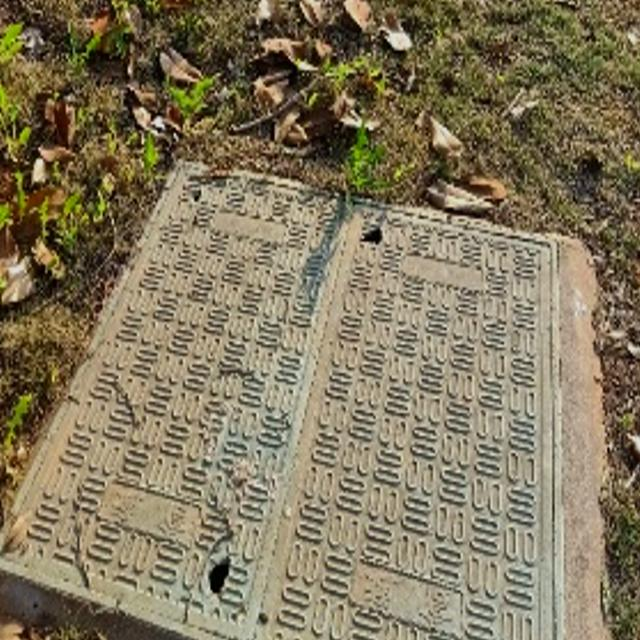good: (0, 153, 569, 640)
